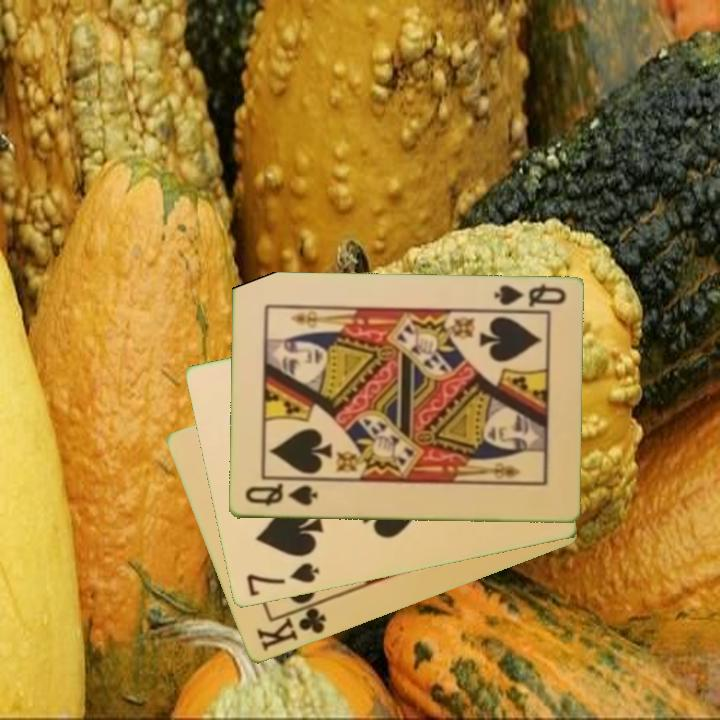7s: (243, 559, 322, 600)
Kc: (252, 599, 330, 655)
Qs: (491, 281, 569, 310), (241, 481, 320, 509)
